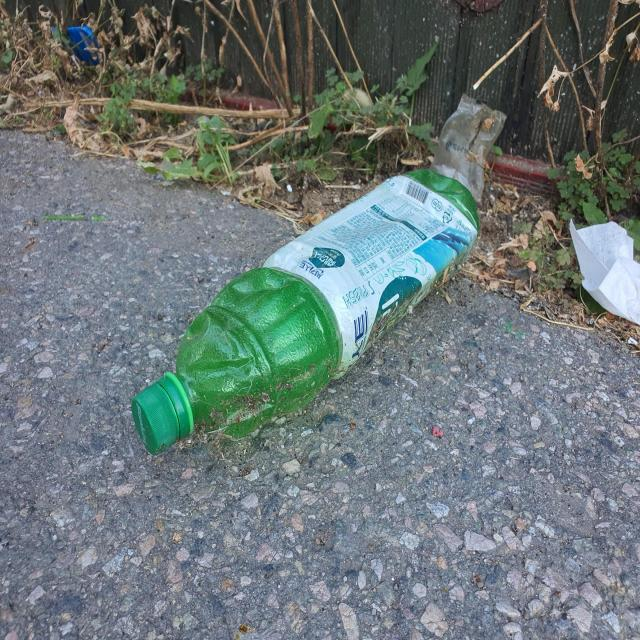plastic: (132, 169, 480, 454)
